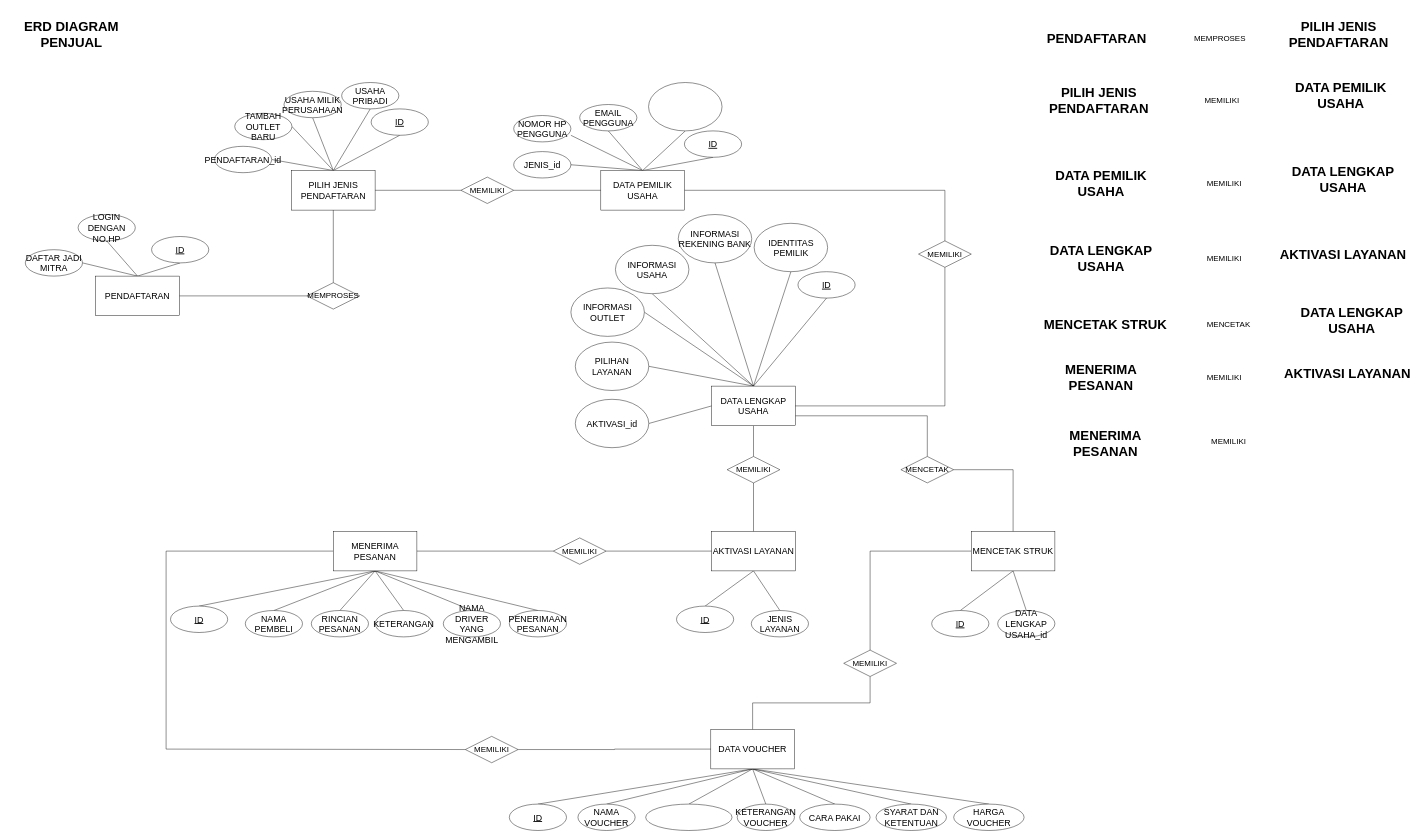
This 1423x838 diagram has some shape labels left out. The shapes that lost their labels are listed below. From the top down, each one's centre as x and y in pixels, then its label:
At (x=685, y=106): "NAMA PENGGUNA (SESUAI KTP)".
At (x=688, y=817): "MASA BERLAKU".
